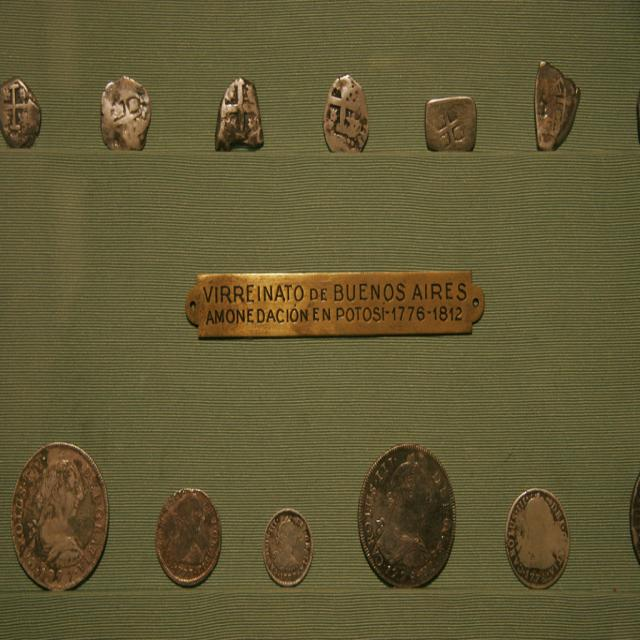Coin: (355, 441, 457, 594), (9, 438, 109, 592), (503, 486, 571, 590), (155, 490, 222, 587), (97, 75, 153, 154), (536, 60, 582, 154), (319, 75, 371, 154), (260, 508, 313, 585), (212, 77, 265, 148), (424, 94, 478, 154), (1, 77, 44, 151), (629, 472, 639, 565)
